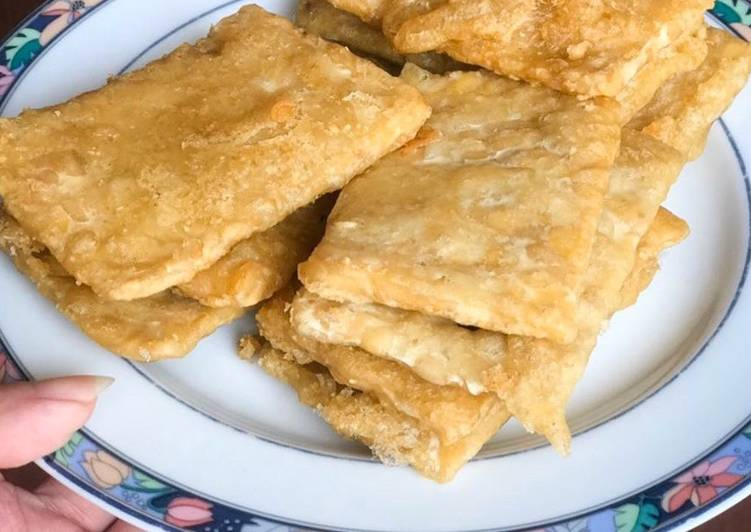Tempe: (14, 18, 417, 308), (311, 113, 625, 312)
